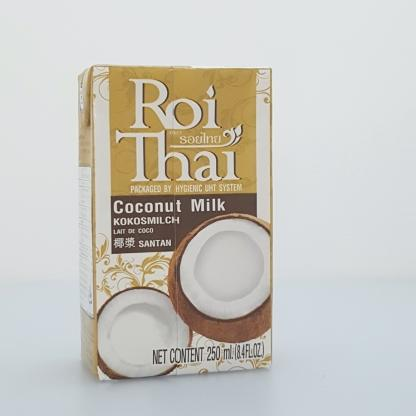-------------: (78, 64, 273, 380)
